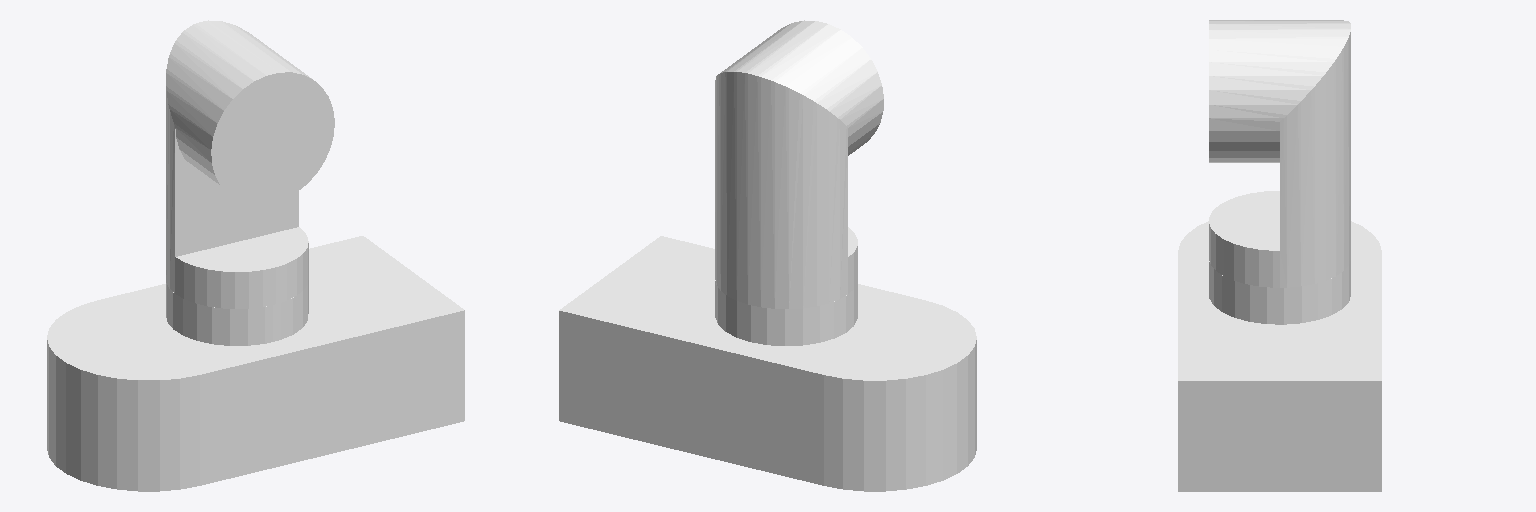
The robot description file, URDF, robot "mech1":
<?xml version="1.0" encoding="utf-8"?>
<!-- This URDF was automatically created by SolidWorks to URDF Exporter! Originally created by [author] ([email redacted]) 
     Commit Version: 1.6.0-4-g7f85cfe  Build Version: 1.6.7995.38578
     For more information, please see http://wiki.ros.org/sw_urdf_exporter -->
<robot
  name="mech1">
  <link
    name="base_link">
    <inertial>
      <origin
        xyz="0.0047164 -1.835E-18 0.032539"
        rpy="0 0 0" />
      <mass
        value="1.2975" />
      <inertia
        ixx="0.001476"
        ixy="-1.4001E-19"
        ixz="1.5537E-05"
        iyy="0.0042174"
        iyz="-2.3965E-20"
        izz="0.004712" />
    </inertial>
    <visual>
      <origin
        xyz="0 0 0"
        rpy="0 0 0" />
      <geometry>
        <mesh
          filename="package://mech1/meshes/base_link.STL" />
      </geometry>
      <material
        name="">
        <color
          rgba="1 1 1 1" />
      </material>
    </visual>
    <collision>
      <origin
        xyz="0 0 0"
        rpy="0 0 0" />
      <geometry>
        <mesh
          filename="package://mech1/meshes/base_link.STL" />
      </geometry>
    </collision>
  </link>
  <link
    name="link_1">
    <inertial>
      <origin
        xyz="1.1113E-09 0.0013075 0.065249"
        rpy="0 0 0" />
      <mass
        value="0.43177" />
      <inertia
        ixx="0.00071229"
        ixy="-3.1153E-11"
        ixz="-7.9991E-11"
        iyy="0.00069332"
        iyz="4.597E-05"
        izz="0.00027594" />
    </inertial>
    <visual>
      <origin
        xyz="0 0 0"
        rpy="0 0 0" />
      <geometry>
        <mesh
          filename="package://mech1/meshes/link_1.STL" />
      </geometry>
      <material
        name="">
        <color
          rgba="1 1 1 1" />
      </material>
    </visual>
    <collision>
      <origin
        xyz="0 0 0"
        rpy="0 0 0" />
      <geometry>
        <mesh
          filename="package://mech1/meshes/link_1.STL" />
      </geometry>
    </collision>
  </link>
  <joint
    name="joint_1"
    type="revolute">
    <origin
      xyz="0 0 0.08"
      rpy="0 0 0" />
    <parent
      link="base_link" />
    <child
      link="link_1" />
    <axis
      xyz="0 0 1" />
    <limit
      lower="0"
      upper="0"
      effort="0"
      velocity="0" />
  </joint>
</robot>

--- What the picture shows (computed from the rendered views, not written in the file) ---
3 views of the same robot in one strip: view 1: azimuth 30°, elevation 25°; view 2: azimuth 150°, elevation 25°; view 3: azimuth 270°, elevation 25° (orthographic).
Model mech1 with 2 links and 1 joints (1 revolute), rooted at base_link, posed every joint at zero.
Links seen in each view (by area): view 1: base_link, link_1; view 2: base_link, link_1; view 3: base_link, link_1.
Boxes of the visible links, x1,y1,x2,y2 form: base_link: (47,236,464,491); link_1: (166,20,334,308); base_link: (559,236,976,491); link_1: (715,20,883,308); base_link: (1178,221,1381,491); link_1: (1209,20,1350,287).
Bounding box of the posed robot: 0.1997 × 0.1 × 0.205 m (x, y, z).
2 mesh visuals loaded from 2 distinct referenced files (2 binary STL).